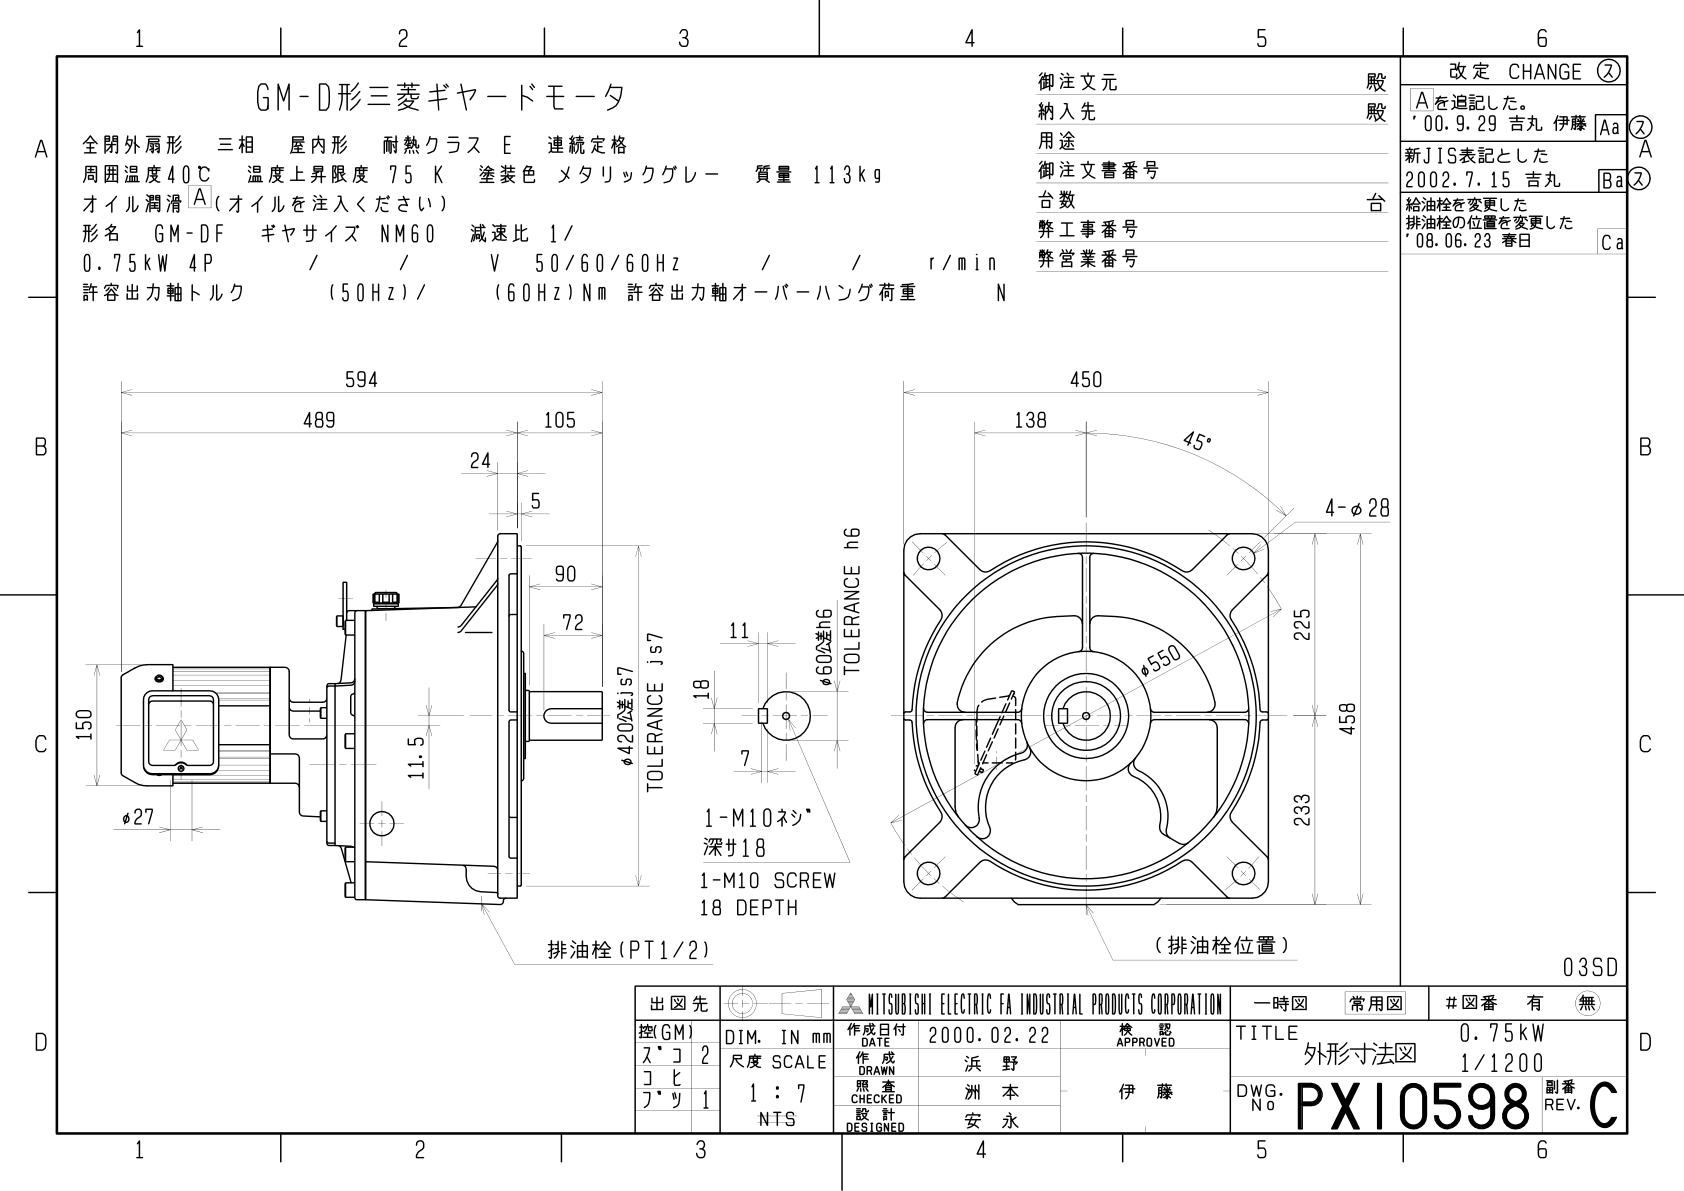GM_D_屋内＿三相_フランジ: (67, 324, 1397, 965)
